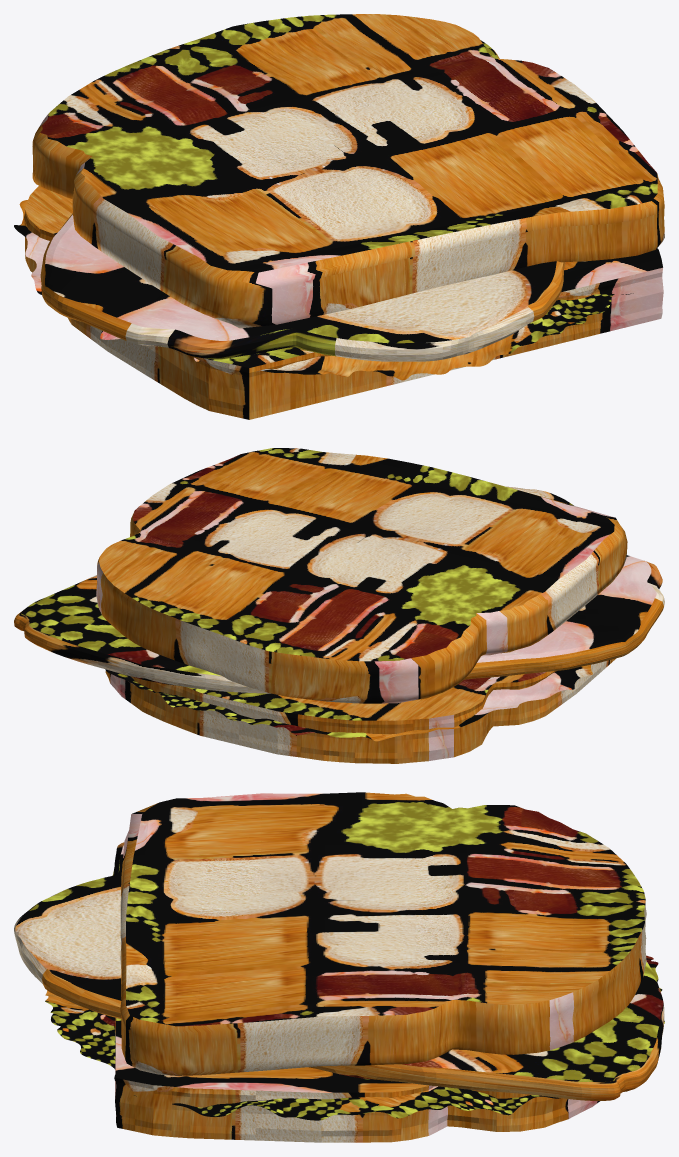
Rendered from Ejercicio_29_BAKE_Sandwich (3).fbx.
The picture shows the model from 3 angles, top to bottom: view 1: azimuth 30°, elevation 25°; view 2: azimuth 150°, elevation 25°; view 3: azimuth 270°, elevation 25°; orthographic projection. The views are drawn at different scales.
Visible parts, largest first — view 1: JAMON; view 2: JAMON; view 3: JAMON.
Boxes of the visible parts, x1,y1,x2,y2 form: JAMON: (14, 14, 664, 419); JAMON: (14, 448, 664, 763); JAMON: (14, 792, 664, 1142).
Bounding box in the file's own units: 883 × 193 × 870.
